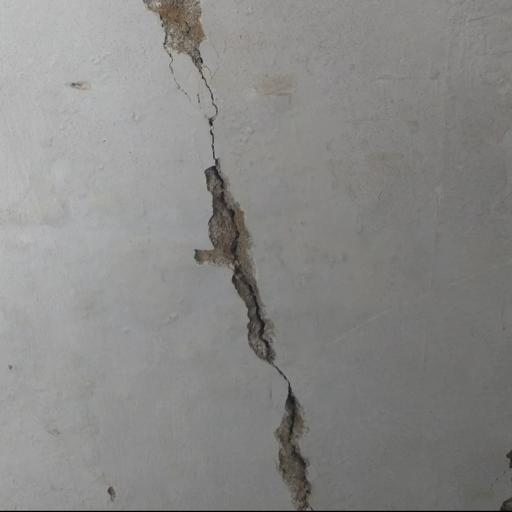major_crack: (132, 0, 331, 512)
